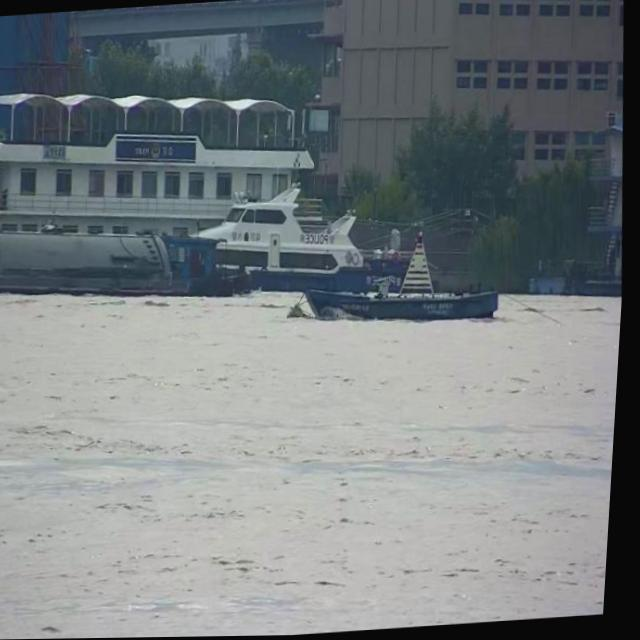ship2: (163, 189, 370, 296), (314, 233, 503, 324)
